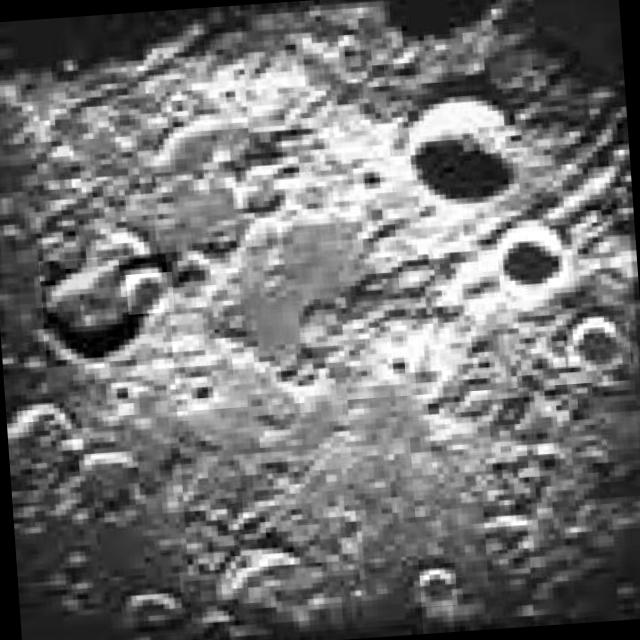crater: (40, 254, 173, 367), (408, 100, 522, 211), (496, 229, 564, 287), (565, 322, 631, 368), (126, 272, 174, 315), (419, 569, 457, 607)
